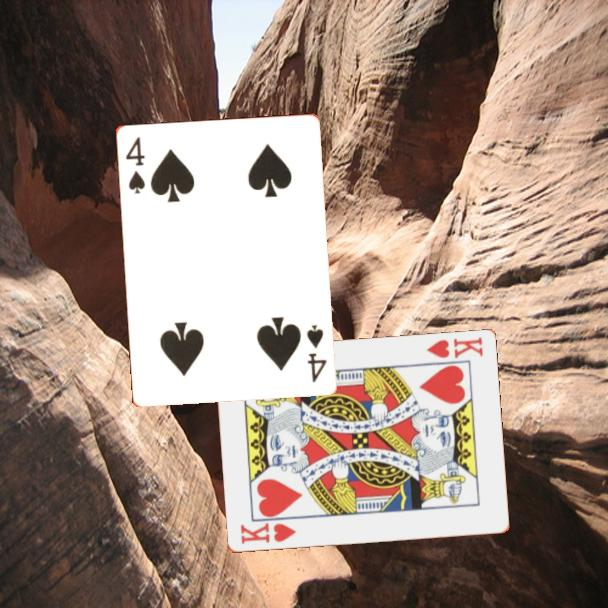h13: (236, 520, 299, 547), (423, 334, 486, 361)
s04: (303, 321, 329, 385), (122, 133, 147, 196)
